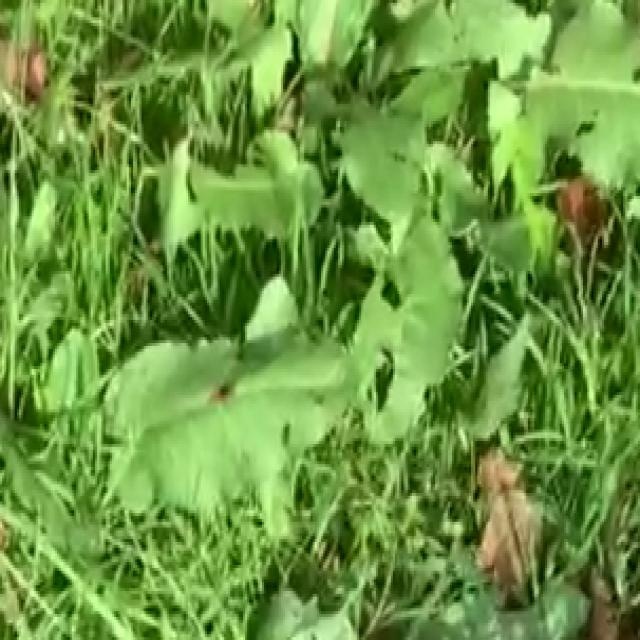organic waste: (99, 0, 636, 528)
